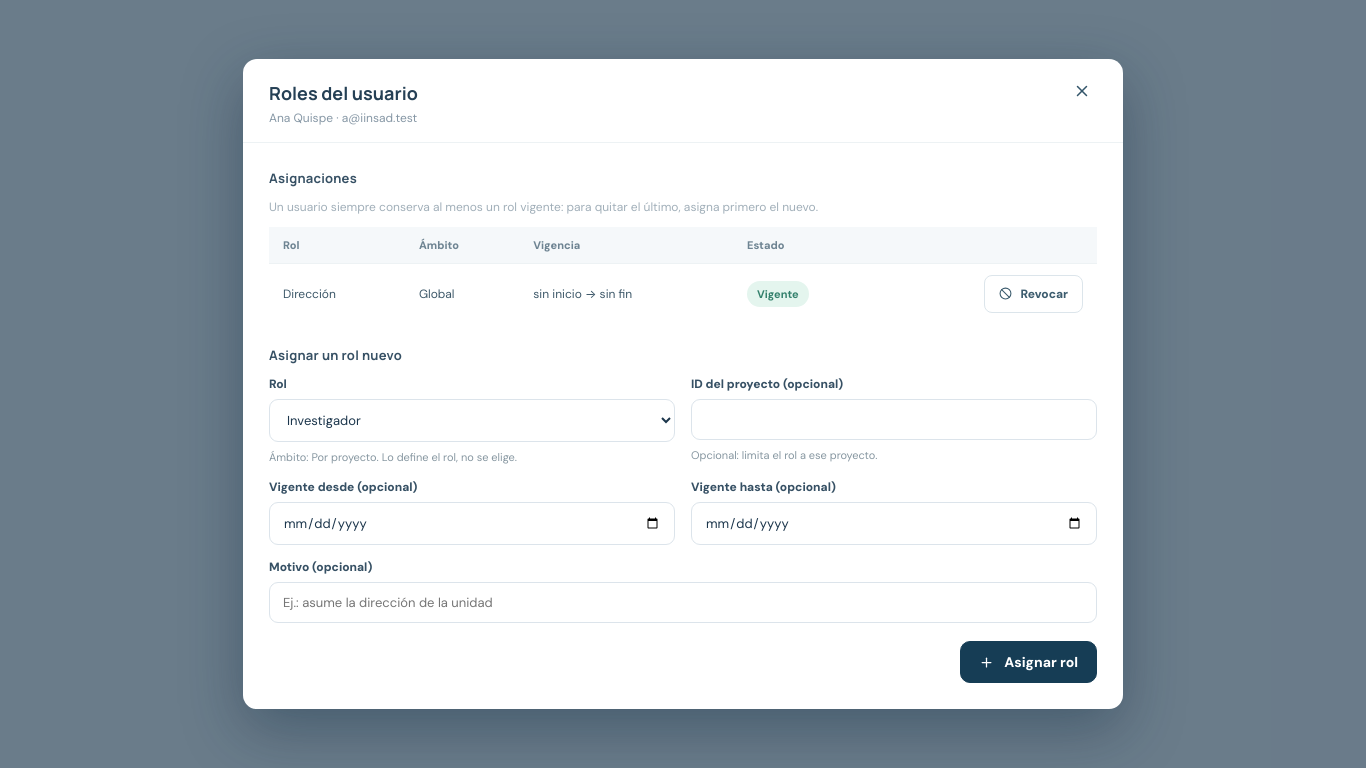
Test case: UserRolesModal › muestra el rechazo del servidor al revocar el último rol vigente
Expected: the text "siempre conserva al menos un rol vigente" is shown, 269,199 -> 818,215
Click the button "Revocar" at {"x": 1034, "y": 294}, box 984,275 -> 1083,313
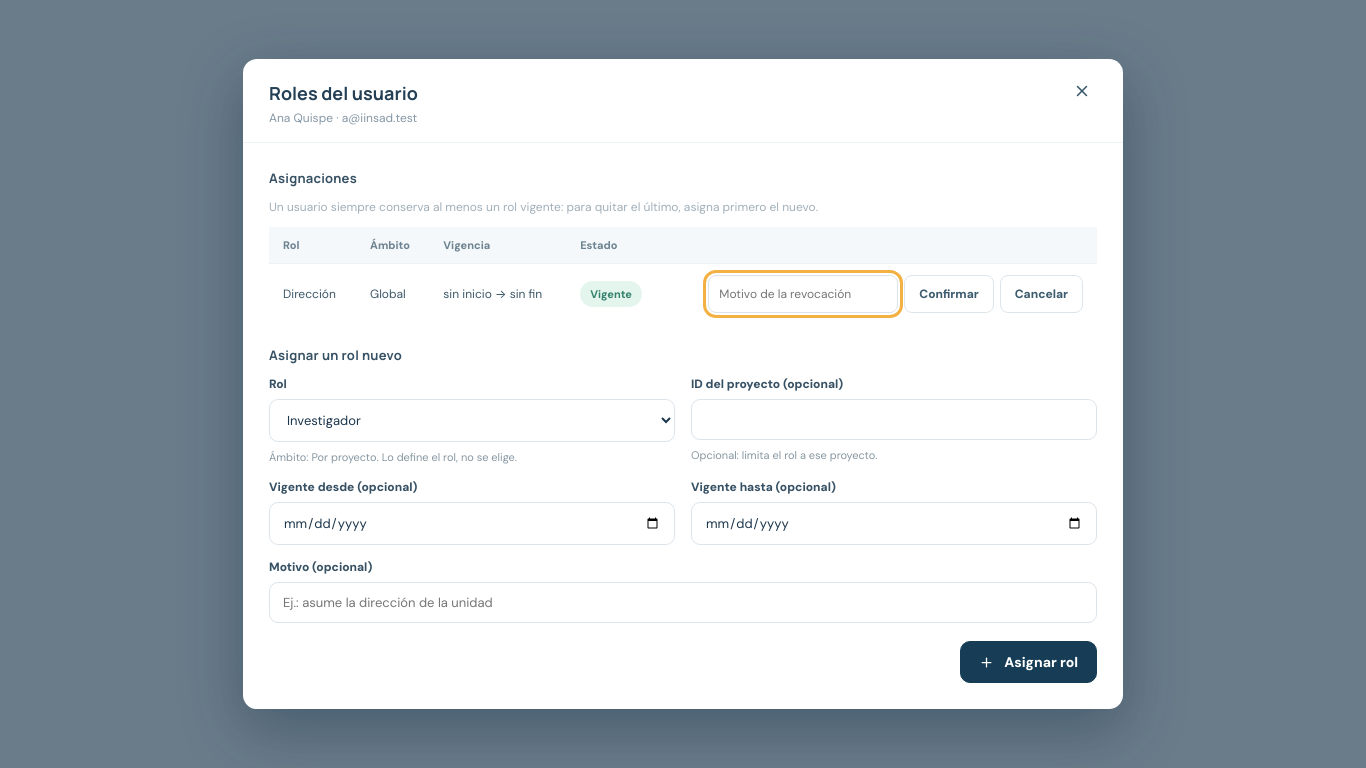
Type "Cambio de cargo" into the field with placeholder "Motivo de la revocación" at {"x": 803, "y": 294}, box 708,275 -> 898,313
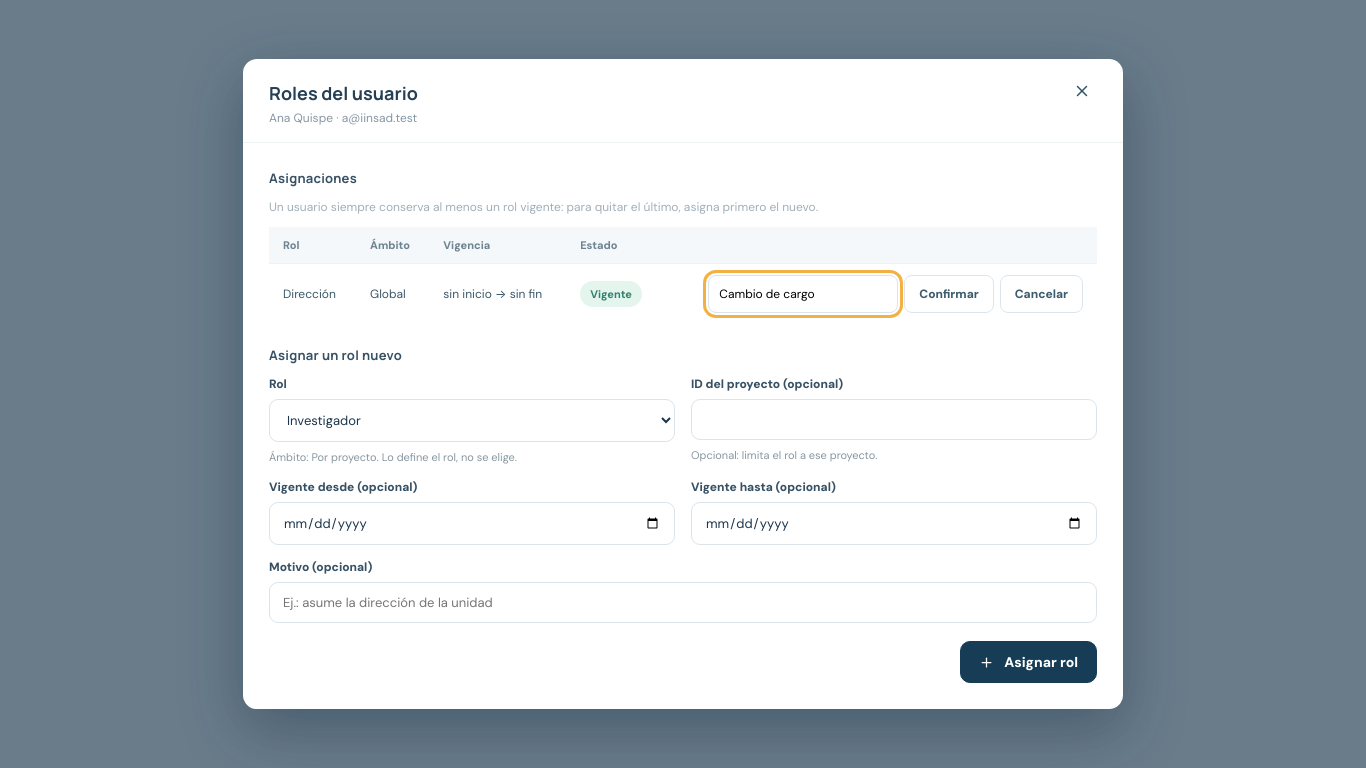
Click the button "Confirmar" at {"x": 949, "y": 294}, box 904,275 -> 994,313
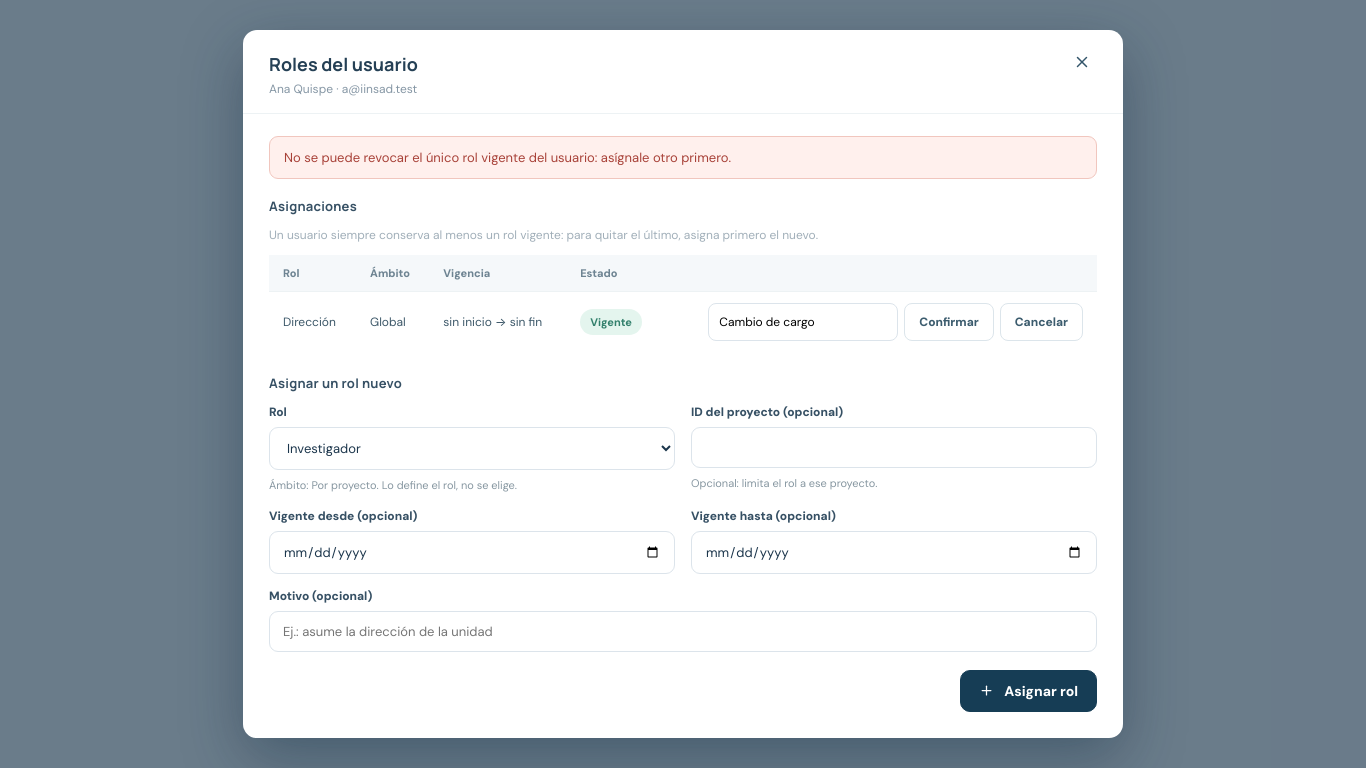
Result: the text "único rol vigente del usuario" is shown at 284,149 -> 731,166
